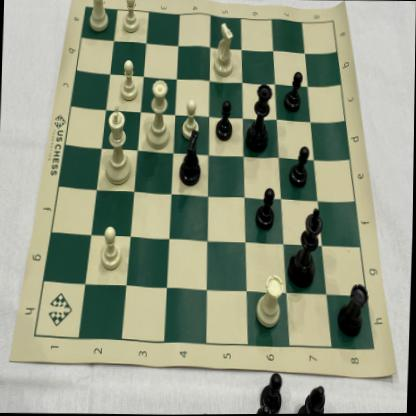black-king: (288, 207, 326, 291)
black-knight: (177, 130, 204, 188)
black-pawn: (254, 185, 278, 232), (287, 144, 312, 189), (214, 98, 235, 144), (283, 69, 303, 113)
black-queen: (243, 80, 275, 157)
black-rook: (338, 279, 369, 339)
white-king: (101, 103, 134, 186)
white-knight: (212, 20, 235, 79)
white-pawn: (97, 225, 123, 273), (117, 57, 140, 102), (179, 97, 201, 140), (120, 0, 141, 34)
white-queen: (143, 78, 175, 151)
white-rook: (255, 271, 284, 330), (86, 0, 113, 36)
